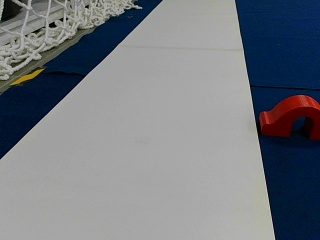bridge: (261, 94, 319, 136)
